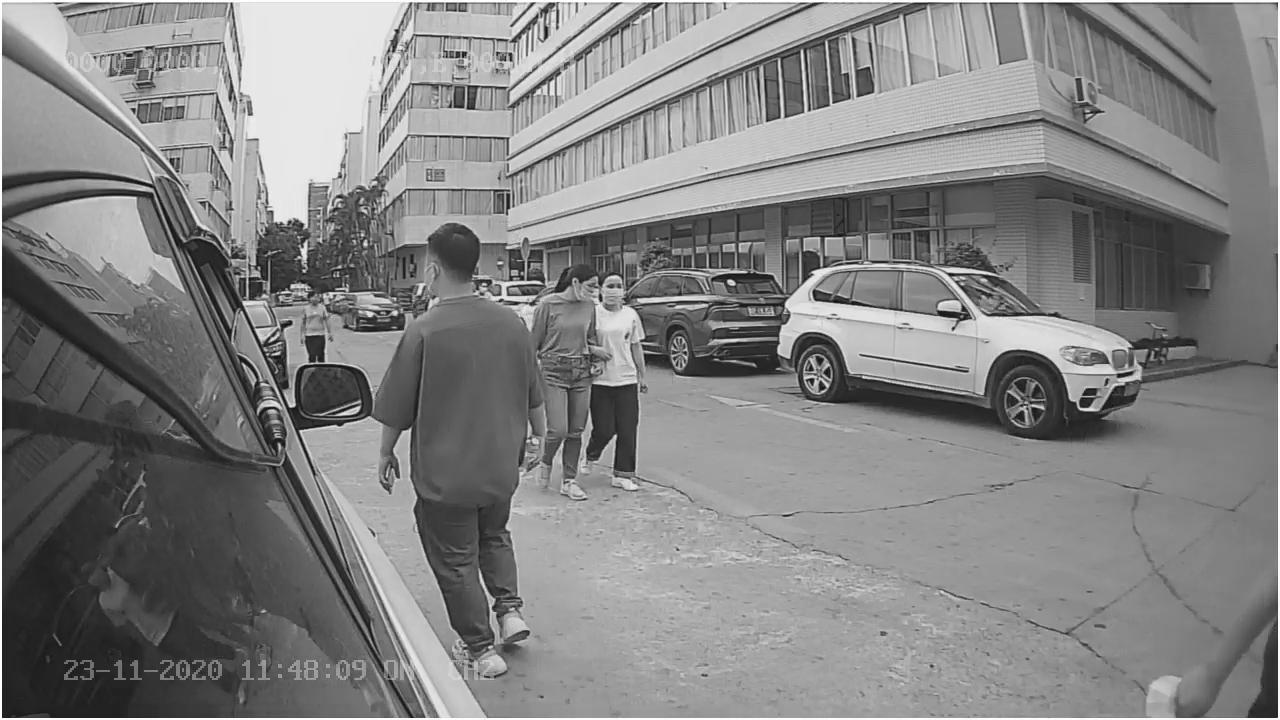person: (373, 216, 550, 502)
